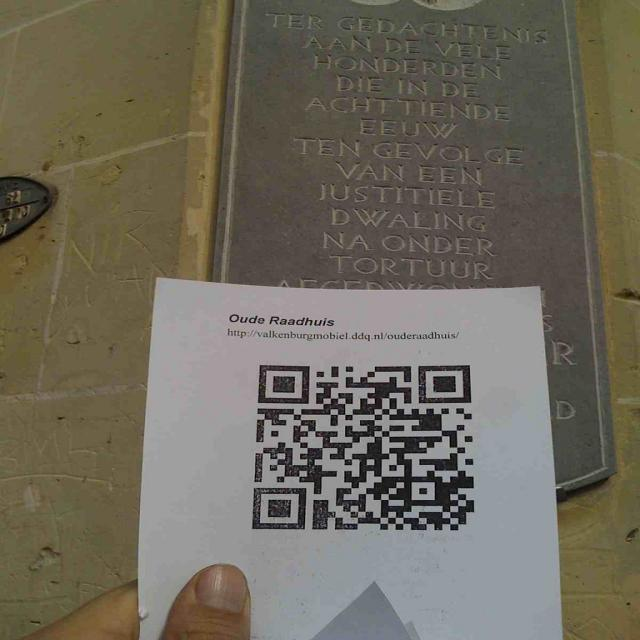qr-code: (252, 365, 473, 531)
